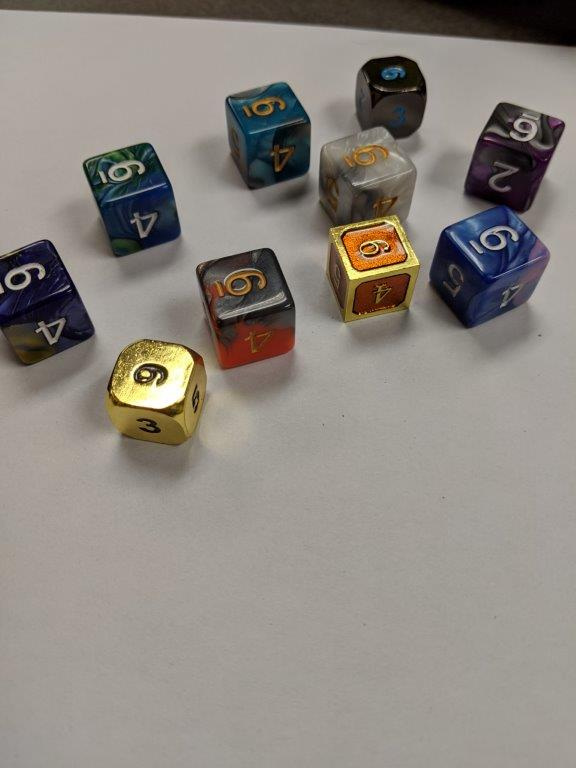d6-6: (429, 205, 551, 326), (195, 245, 296, 372), (1, 238, 95, 364), (106, 337, 211, 446), (463, 100, 567, 210), (83, 141, 181, 256), (320, 125, 417, 233), (327, 215, 419, 324), (225, 81, 311, 194), (356, 53, 426, 137)
